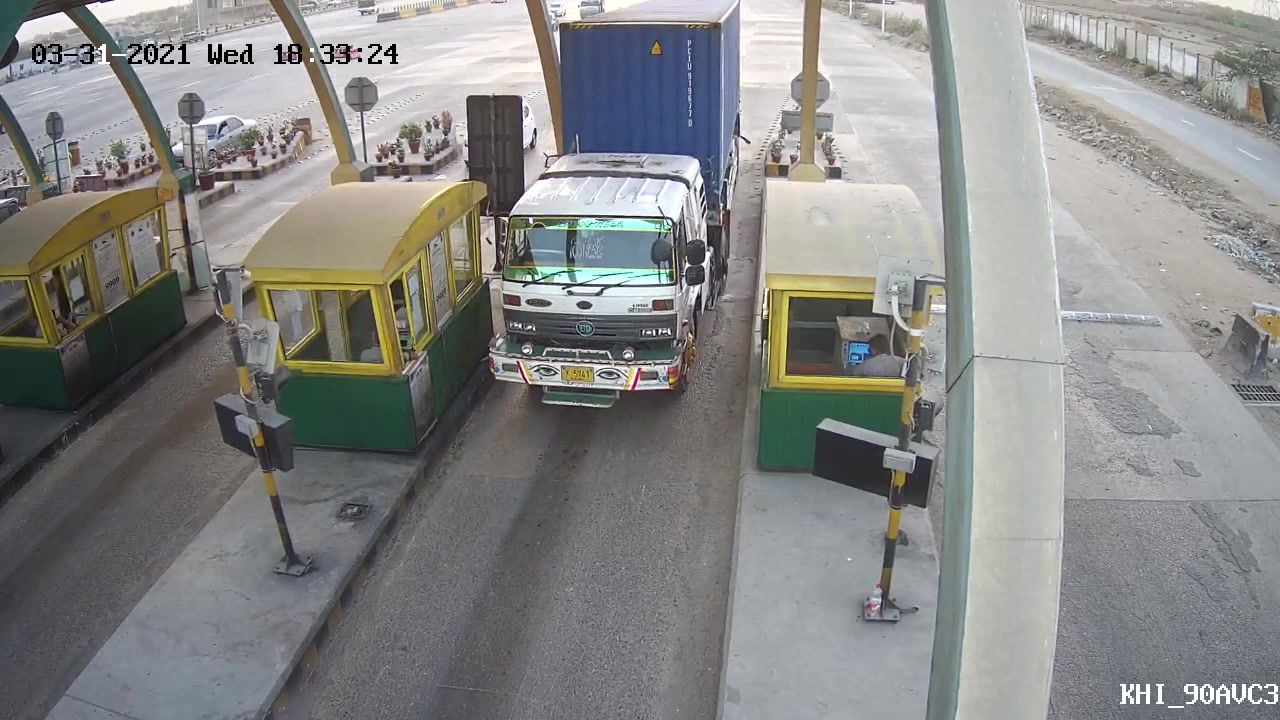F6: (477, 1, 760, 423)
